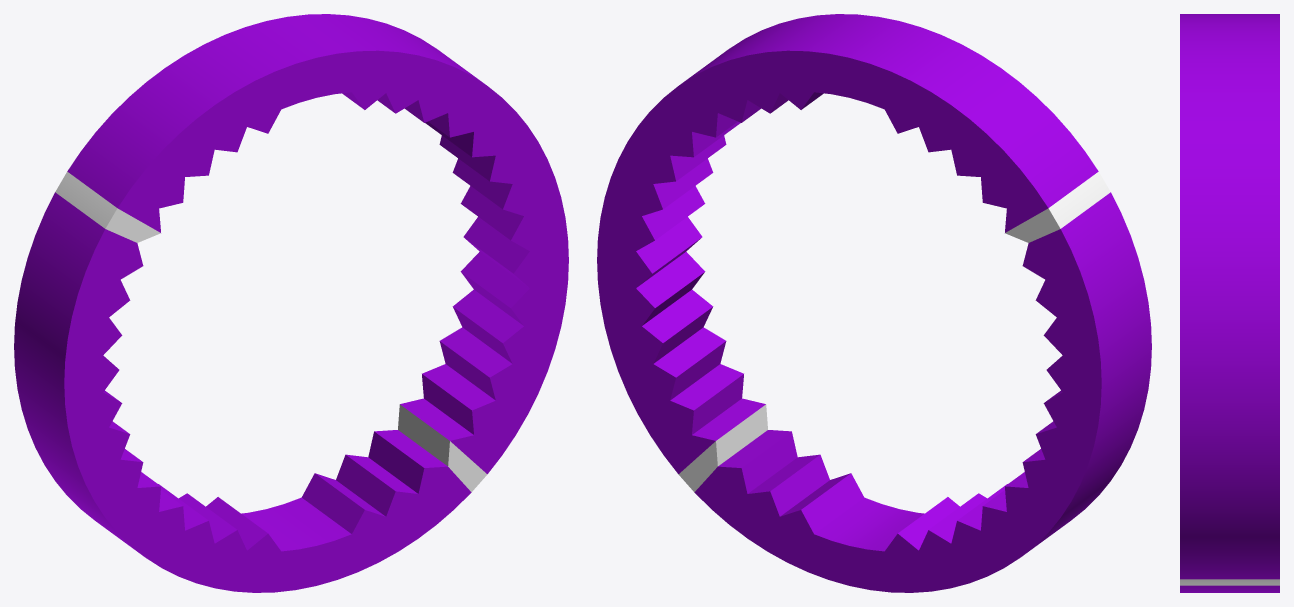
The model's file is 664 and 668- part 3.fbx.
3 views of the same model, side by side, from view 1: azimuth 30°, elevation 25°; view 2: azimuth 150°, elevation 25°; view 3: azimuth 270°, elevation 25° (orthographic).
Visible parts, largest first — view 1: 664 and 668- part 2; view 2: 664 and 668- part 2; view 3: 664 and 668- part 2.
Part boxes in pixels (bbox=[...]): 664 and 668- part 2: bbox=[14, 14, 568, 592]; 664 and 668- part 2: bbox=[597, 14, 1151, 592]; 664 and 668- part 2: bbox=[1180, 14, 1279, 592].
Bounding box in the file's own units: 464 × 464 × 80.
